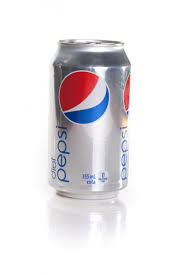can: (49, 31, 136, 203)
